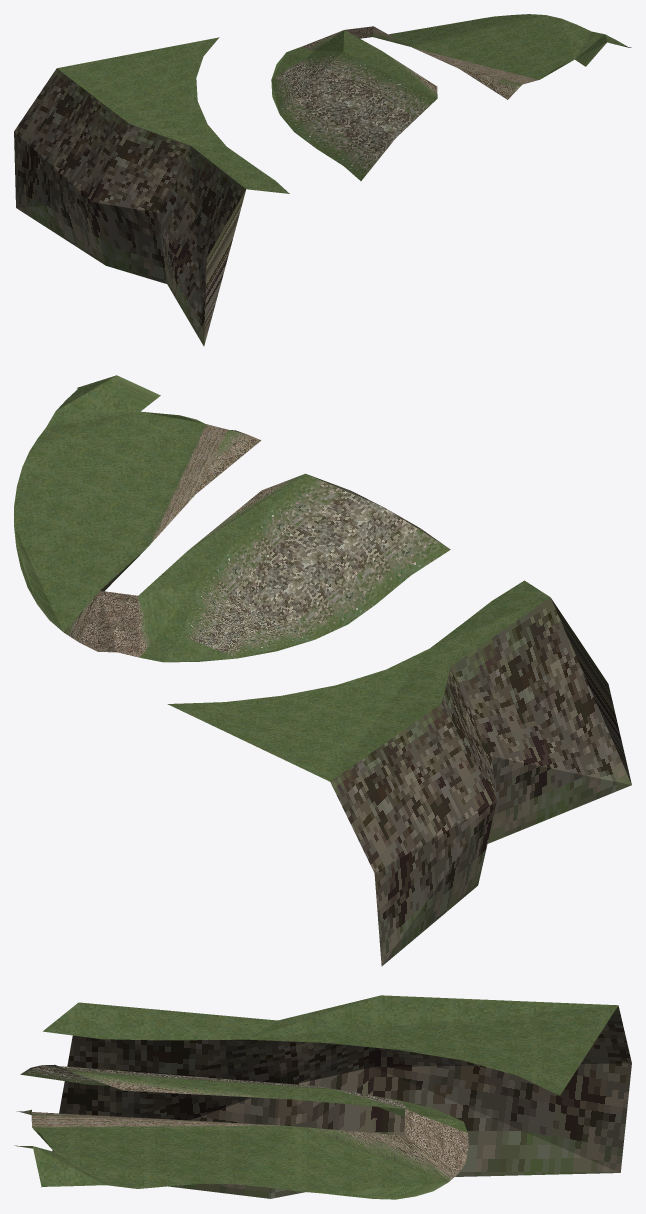
Rendered from lodcepalcst06.obj.
3 views of the same model, one above another, from view 1: azimuth 30°, elevation 25°; view 2: azimuth 150°, elevation 25°; view 3: azimuth 270°, elevation 25° (orthographic). The views are drawn at different scales.
Visible parts, largest first — view 1: LODCEPALCST06; view 2: LODCEPALCST06; view 3: LODCEPALCST06.
Boxes of the visible parts, bbox=[...] form: LODCEPALCST06: bbox=[14, 14, 631, 346]; LODCEPALCST06: bbox=[14, 375, 631, 966]; LODCEPALCST06: bbox=[14, 995, 631, 1199].
Bounding box in the file's own units: 133 × 62.33 × 109.
6 materials, 6 textured.
